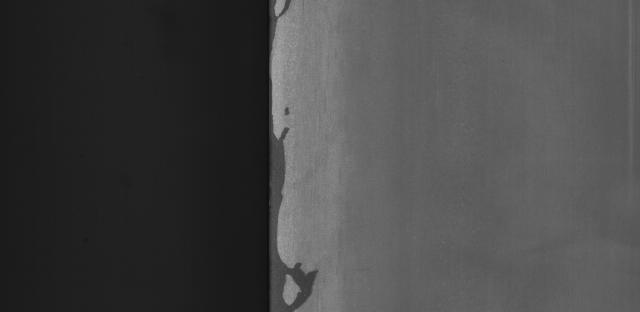water_spot: (255, 14, 324, 312)
